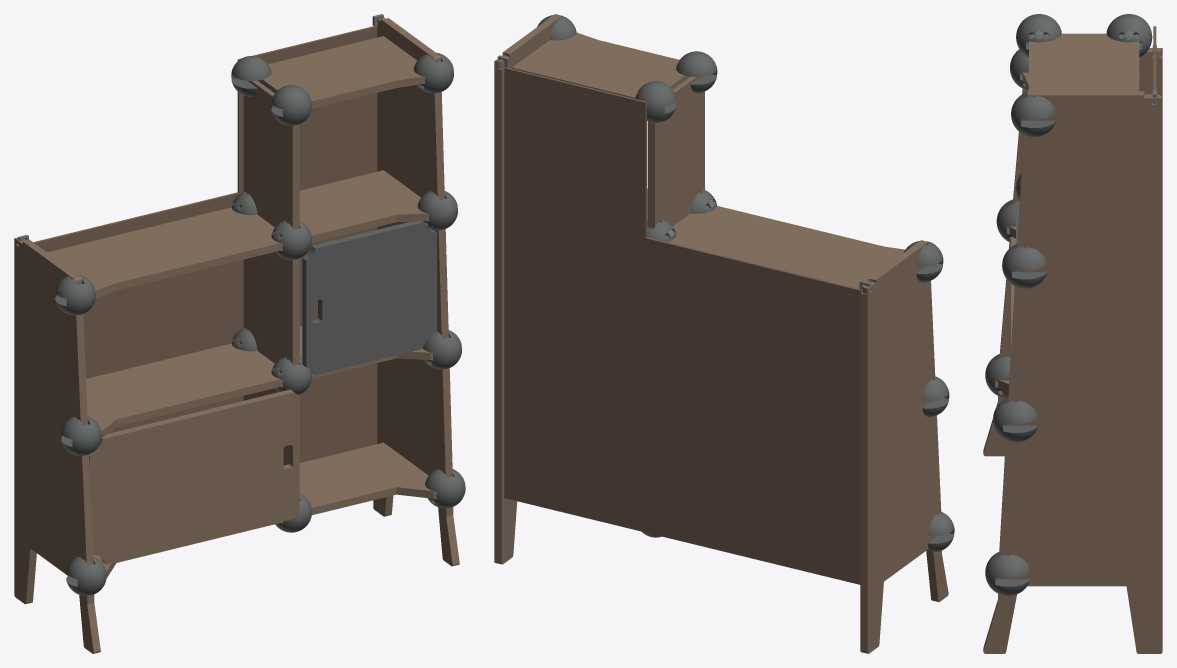
File: assembled.glb
3 views of the same model, side by side, from view 1: azimuth 30°, elevation 25°; view 2: azimuth 150°, elevation 25°; view 3: azimuth 270°, elevation 25° (orthographic). The views are drawn at different scales.
Visible parts, largest first — view 1: back-panel, door-0, frame-left, frame-right, door-1, shelf-2, shelf-1, shelf-3, shelf-0, partition-2, partition-1, sphere-inner-x600-3-front (+10 smaller); view 2: back-panel, frame-left, shelf-2, frame-right, partition-2, shelf-3, sphere-inner-x600-3-rear, sphere-inner-x600-3-front, sphere-side-left-2, sphere-side-left-1, sphere-side-left-0; view 3: frame-right, shelf-3, frame-left, sphere-side-right-3, sphere-side-right-1, sphere-side-right-2, sphere-side-right-0, sphere-inner-x600-3-rear, sphere-inner-x600-3-front, sphere-side-left-0, sphere-side-left-1, sphere-side-left-2.
Part boxes in pixels (bbox=[...]): back-panel: bbox=[33, 25, 377, 462]; door-0: bbox=[89, 389, 299, 564]; frame-left: bbox=[14, 238, 100, 653]; frame-right: bbox=[373, 17, 459, 566]; door-1: bbox=[302, 221, 436, 374]; shelf-2: bbox=[47, 170, 429, 297]; shelf-1: bbox=[86, 326, 433, 438]; shelf-3: bbox=[258, 36, 425, 108]; shelf-0: bbox=[93, 442, 436, 577]; partition-2: bbox=[243, 80, 299, 229]; partition-1: bbox=[243, 252, 299, 365]; sphere-inner-x600-3-front: bbox=[271, 85, 311, 125]; back-panel: bbox=[504, 67, 862, 584]; frame-left: bbox=[860, 240, 948, 653]; shelf-2: bbox=[647, 188, 904, 288]; frame-right: bbox=[494, 14, 562, 564]; partition-2: bbox=[647, 76, 704, 228]; shelf-3: bbox=[511, 32, 689, 98]; sphere-inner-x600-3-rear: bbox=[635, 81, 676, 122]; sphere-inner-x600-3-front: bbox=[676, 51, 717, 92]; sphere-side-left-2: bbox=[904, 241, 943, 282]; sphere-side-left-1: bbox=[922, 376, 949, 416]; sphere-side-left-0: bbox=[927, 512, 954, 551]; frame-right: bbox=[983, 91, 1162, 653]; shelf-3: bbox=[1028, 33, 1139, 91]; frame-left: bbox=[983, 48, 1162, 456]; sphere-side-right-3: bbox=[1011, 91, 1055, 137]; sphere-side-right-1: bbox=[993, 397, 1038, 442]; sphere-side-right-2: bbox=[1002, 244, 1047, 288]; sphere-side-right-0: bbox=[985, 552, 1030, 595]; sphere-inner-x600-3-rear: bbox=[1106, 14, 1152, 57]; sphere-inner-x600-3-front: bbox=[1016, 14, 1061, 57]; sphere-side-left-0: bbox=[985, 354, 1010, 398]; sphere-side-left-1: bbox=[996, 199, 1015, 242]; sphere-side-left-2: bbox=[1010, 49, 1028, 89].
Bounding box in the file's own units: 0.9981 × 1.2 × 0.3485.
